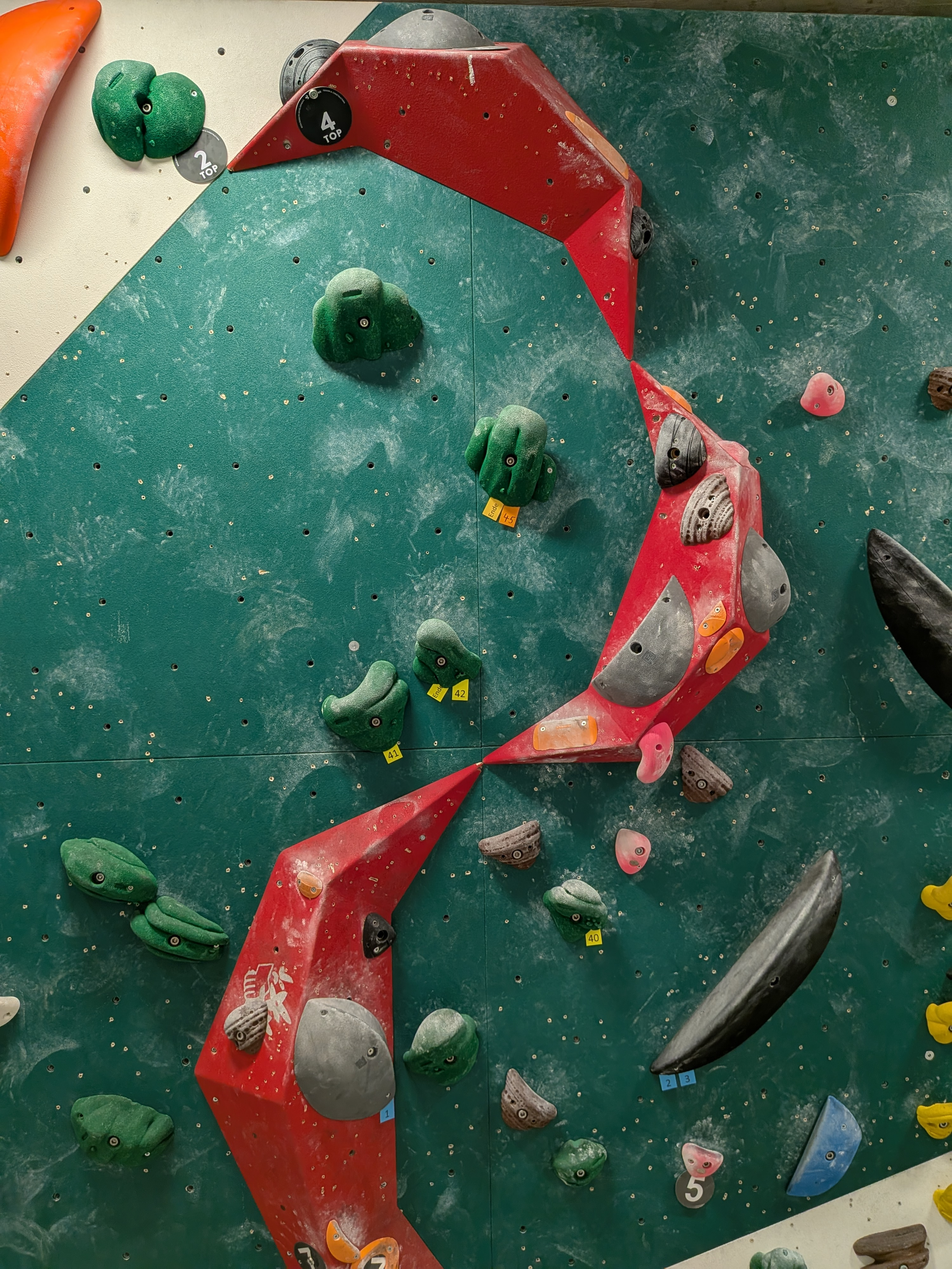hold: (653, 851, 845, 1074), (0, 0, 97, 253), (867, 529, 952, 706), (595, 579, 696, 708), (294, 999, 394, 1120), (89, 61, 202, 161), (311, 268, 422, 364), (468, 405, 555, 506), (322, 661, 408, 752), (787, 1095, 862, 1196), (68, 1096, 170, 1164), (58, 839, 156, 906), (128, 896, 226, 961), (402, 1009, 479, 1087), (368, 9, 493, 49), (742, 531, 791, 631), (413, 619, 480, 687), (565, 111, 628, 178), (655, 414, 705, 490), (680, 474, 734, 544), (278, 40, 338, 102), (853, 1224, 929, 1269), (547, 879, 613, 930), (502, 1070, 557, 1130), (479, 821, 542, 868), (681, 746, 732, 801), (224, 995, 267, 1051), (554, 1142, 608, 1186), (533, 717, 598, 752), (637, 723, 672, 784), (802, 373, 846, 417), (705, 627, 744, 674), (617, 827, 652, 874), (350, 1236, 399, 1269), (683, 1143, 724, 1177), (327, 1220, 359, 1263), (749, 1247, 807, 1269), (363, 915, 393, 957), (917, 1103, 952, 1139), (632, 207, 654, 259), (926, 1001, 952, 1044), (926, 882, 952, 919), (698, 602, 726, 636), (930, 368, 952, 411), (661, 385, 692, 412), (934, 1184, 952, 1223), (721, 440, 749, 465), (297, 870, 321, 899), (0, 996, 16, 1025)
volume: (193, 761, 484, 1269), (228, 38, 647, 357), (480, 359, 771, 764)
